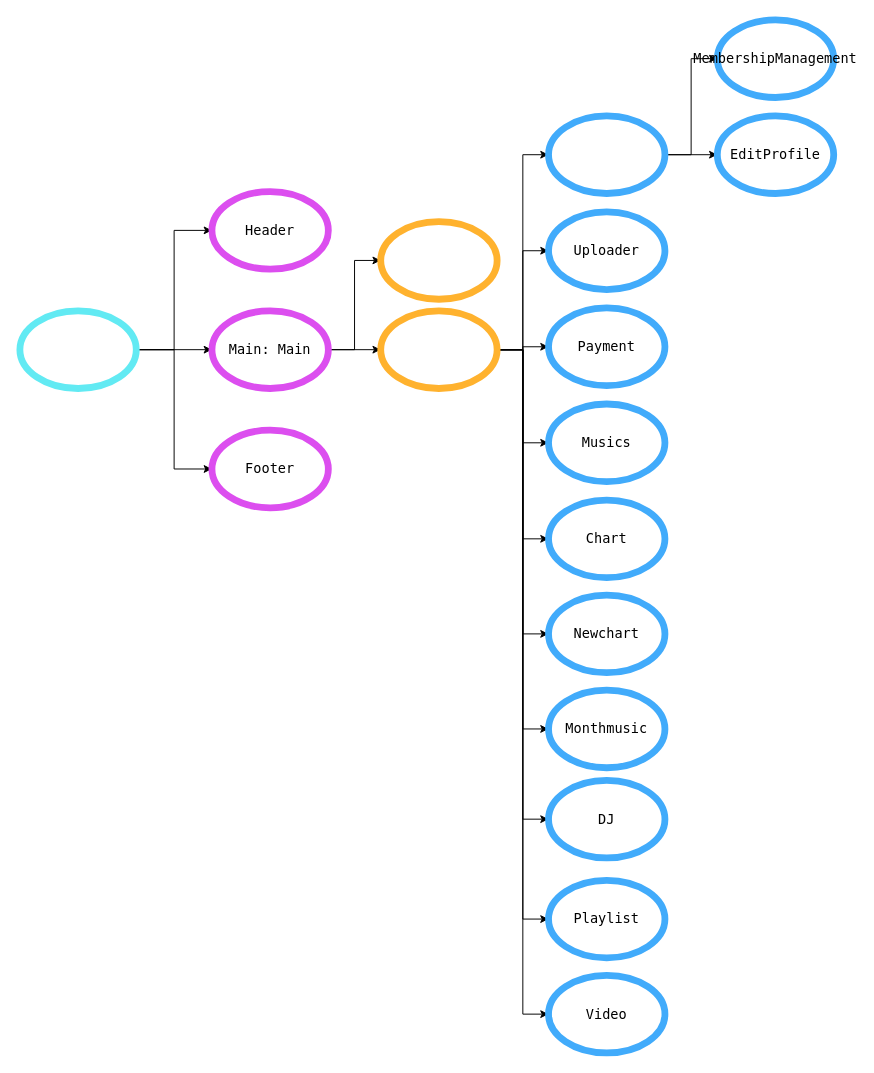
Some shapes in this 874 by 1073 pixel diagram are drawn without their labels. Each missing label, with the centre of its shape:
"app.js" belongs at point 77,349.
"Join" belongs at point 438,260.
"Login" belongs at point 438,349.
"Mypage" belongs at point 606,154.
